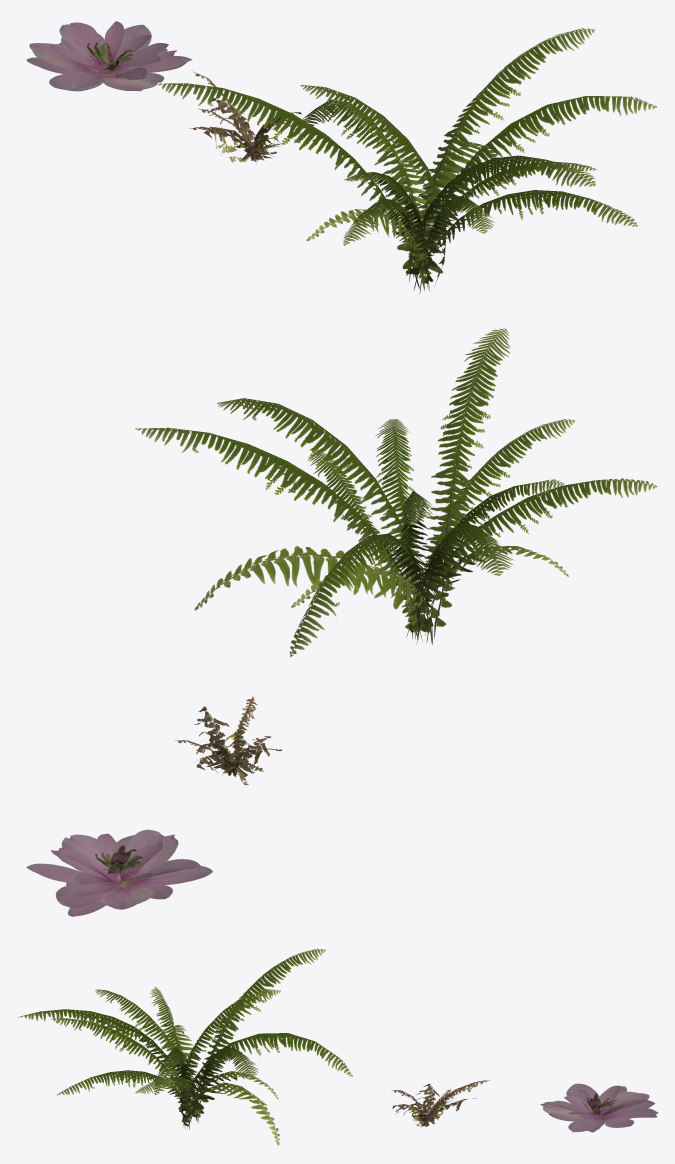
3 views of the same model, one above another, from view 1: azimuth 30°, elevation 25°; view 2: azimuth 150°, elevation 25°; view 3: azimuth 270°, elevation 25° (orthographic). The views are drawn at different scales.
Visible parts, largest first — view 1: plant01_Material #26_0, Plane008_blume_0, Plane015_Material #26_0; view 2: plant01_Material #26_0, Plane008_blume_0, Plane015_Material #26_0; view 3: plant01_Material #26_0, Plane008_blume_0, Plane015_Material #26_0.
Boxes of the visible parts, x1,y1,x2,y2 form: plant01_Material #26_0: [156, 28, 656, 294]; Plane008_blume_0: [26, 21, 192, 91]; Plane015_Material #26_0: [189, 71, 302, 163]; plant01_Material #26_0: [135, 328, 657, 656]; Plane008_blume_0: [26, 829, 212, 916]; Plane015_Material #26_0: [175, 696, 282, 785]; plant01_Material #26_0: [18, 948, 352, 1145]; Plane008_blume_0: [540, 1083, 658, 1132]; Plane015_Material #26_0: [391, 1080, 489, 1127].
Size of the model in its own units: 108 by 49.92 by 220.
2 materials, 2 textured.
